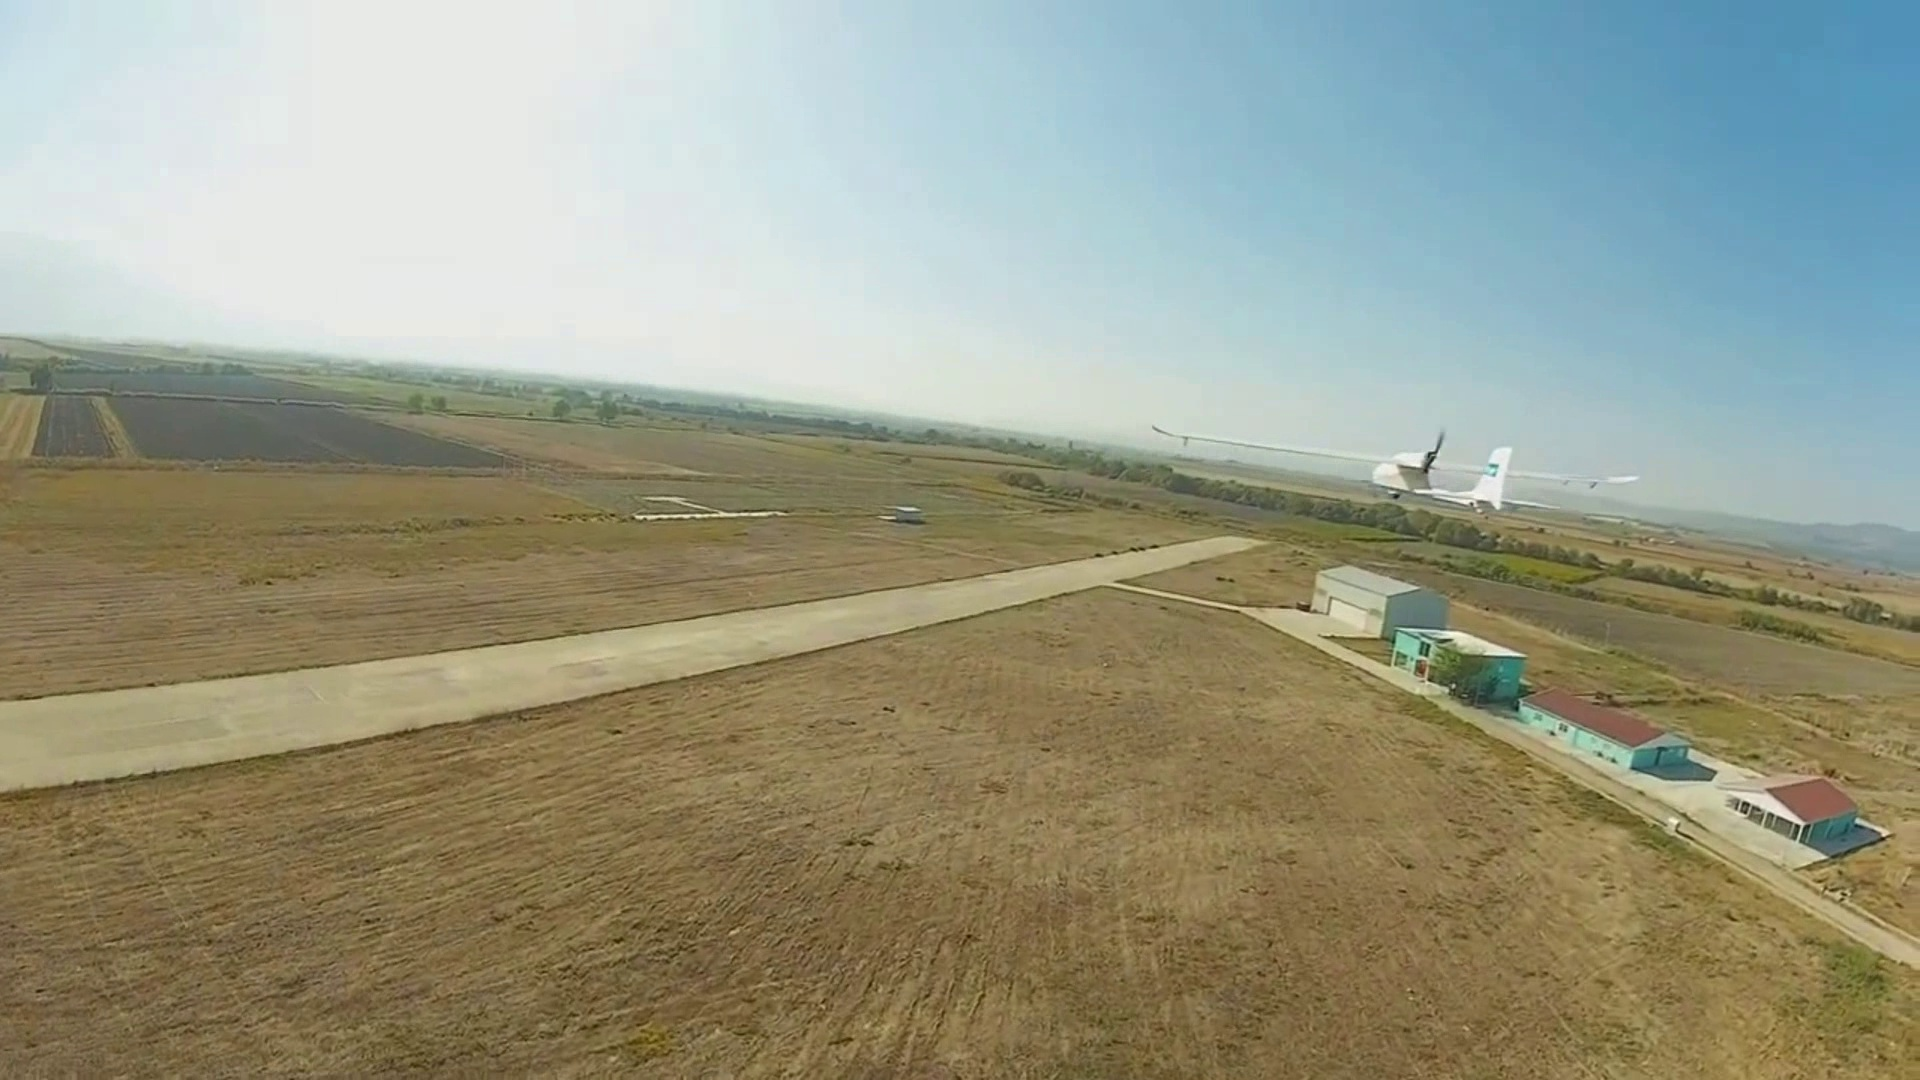airplane: (1366, 423, 1642, 510), (1371, 425, 1512, 510)
